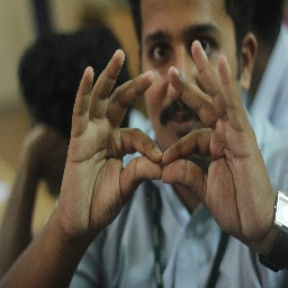B: (99, 115, 230, 216)
